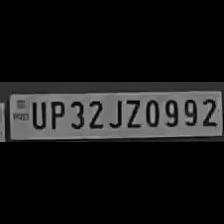0: (142, 96, 160, 128)
2: (85, 97, 105, 130), (198, 95, 218, 127)
3: (65, 97, 84, 130)
9: (161, 96, 179, 128), (180, 95, 198, 127)
J: (106, 97, 122, 129)
P: (46, 98, 66, 130)
U: (28, 98, 46, 130)
Z: (122, 96, 142, 130)
